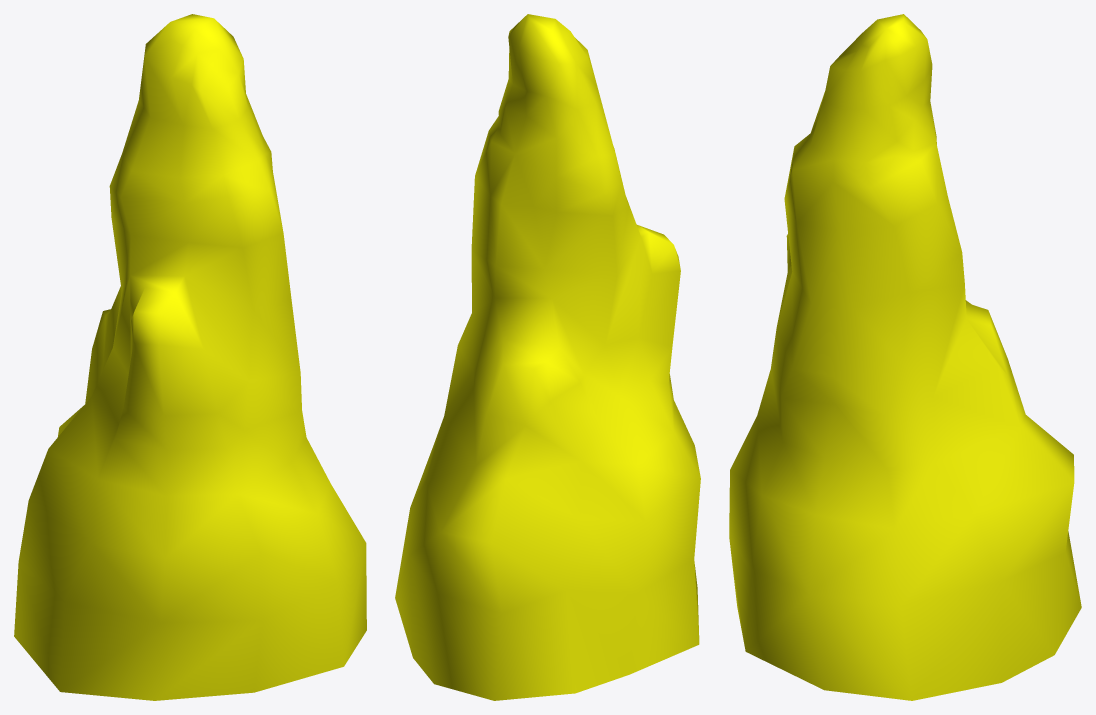
Rendered from rock_pillar_02.glb.
The picture shows the model from 3 angles, left to right: view 1: azimuth 30°, elevation 25°; view 2: azimuth 150°, elevation 25°; view 3: azimuth 270°, elevation 25°; orthographic projection. The views are drawn at different scales.
Parts seen in each view (by area): view 1: rock_pillar_02; view 2: rock_pillar_02; view 3: rock_pillar_02.
Part boxes in pixels (box(x1,y1,x2,y2)): rock_pillar_02: box(14, 14, 366, 700); rock_pillar_02: box(395, 14, 700, 700); rock_pillar_02: box(729, 14, 1081, 700).
Bounding box in the file's own units: 30.08 × 63.43 × 32.36.
Materials: 1 (1 with a texture image).
